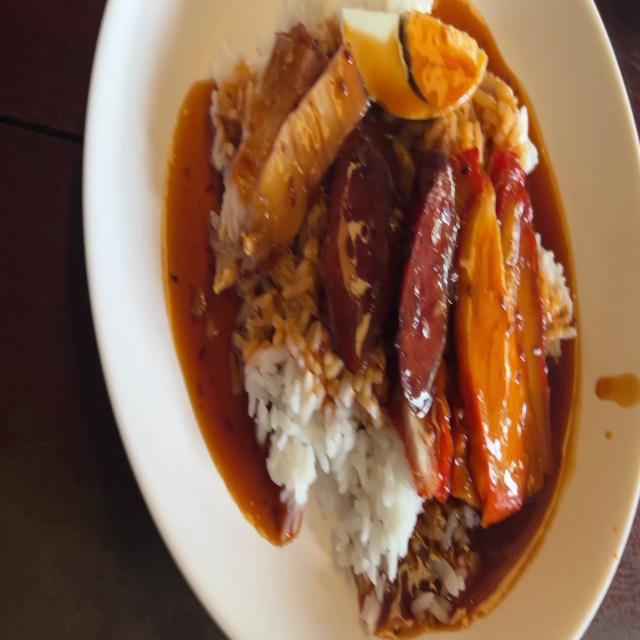red_pork_and_crispy_pork: (342, 8, 482, 120)
stir_fried_basil: (320, 135, 456, 367), (329, 144, 398, 354), (397, 170, 453, 372)
